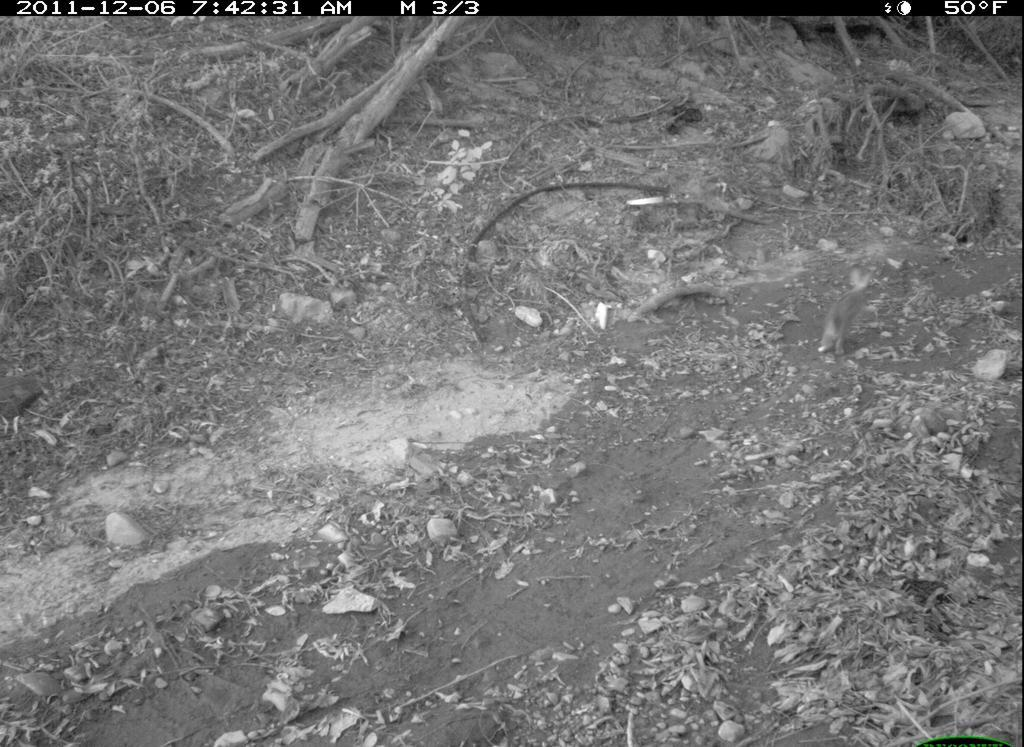rabbit: (813, 263, 886, 360)
